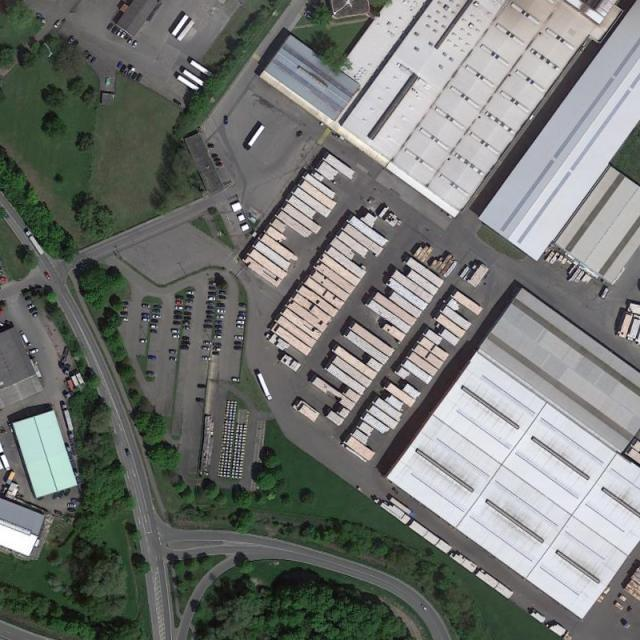vehicle: (388, 496, 416, 518), (244, 125, 266, 151), (25, 230, 45, 256), (256, 373, 273, 402), (61, 404, 74, 433), (67, 36, 77, 46), (54, 20, 63, 30), (111, 25, 120, 34), (62, 488, 71, 497), (44, 271, 52, 281), (116, 28, 124, 38), (120, 65, 128, 74), (130, 72, 138, 81), (135, 74, 143, 83), (29, 348, 39, 355), (67, 502, 78, 508), (106, 22, 114, 30), (131, 41, 138, 50), (120, 31, 127, 40), (29, 307, 38, 314), (58, 490, 65, 499), (238, 311, 248, 317), (238, 302, 248, 308), (212, 342, 222, 348), (127, 37, 134, 45), (171, 329, 182, 334), (235, 325, 246, 330), (208, 291, 217, 297), (142, 304, 151, 310), (153, 314, 162, 320), (202, 346, 211, 352), (26, 304, 35, 310), (53, 491, 59, 500), (118, 306, 128, 311), (196, 398, 206, 403), (234, 335, 244, 340), (214, 325, 224, 330), (214, 321, 224, 326), (147, 355, 157, 360), (85, 54, 92, 61), (186, 299, 194, 305), (25, 296, 33, 302), (219, 290, 228, 295), (218, 295, 227, 300), (153, 305, 162, 310), (153, 309, 162, 314), (120, 311, 129, 316), (183, 316, 192, 321), (182, 321, 191, 326), (186, 294, 195, 299), (182, 341, 191, 346), (169, 350, 178, 355), (126, 449, 131, 458), (236, 320, 245, 325), (238, 316, 247, 321), (217, 309, 226, 314), (118, 302, 129, 306), (179, 346, 190, 350), (208, 282, 218, 286), (206, 314, 214, 319), (150, 324, 158, 329), (186, 290, 194, 295), (140, 339, 148, 344), (172, 334, 180, 339), (182, 336, 190, 341), (185, 306, 193, 311), (176, 301, 184, 306), (176, 297, 184, 302), (33, 313, 41, 318), (67, 508, 77, 512), (208, 286, 217, 290), (206, 302, 215, 306), (120, 318, 129, 322), (174, 311, 183, 315), (174, 306, 183, 310), (203, 325, 212, 329), (202, 357, 211, 361), (232, 378, 241, 382), (214, 330, 223, 334), (216, 315, 225, 319), (1, 306, 5, 315), (204, 341, 211, 346), (1, 271, 6, 278), (224, 117, 228, 125), (209, 297, 217, 301), (217, 303, 225, 307), (206, 310, 214, 314), (204, 320, 212, 324), (142, 314, 150, 318), (150, 330, 158, 334), (182, 326, 190, 330), (142, 318, 150, 322), (174, 315, 182, 319), (184, 312, 192, 316), (170, 358, 178, 362), (234, 346, 242, 350), (213, 348, 221, 352), (213, 351, 221, 355), (234, 342, 242, 346), (214, 335, 222, 339), (146, 371, 154, 375), (1, 278, 9, 282), (207, 306, 214, 310), (174, 322, 181, 326), (151, 320, 159, 323), (198, 385, 206, 388), (1, 266, 2, 270)
